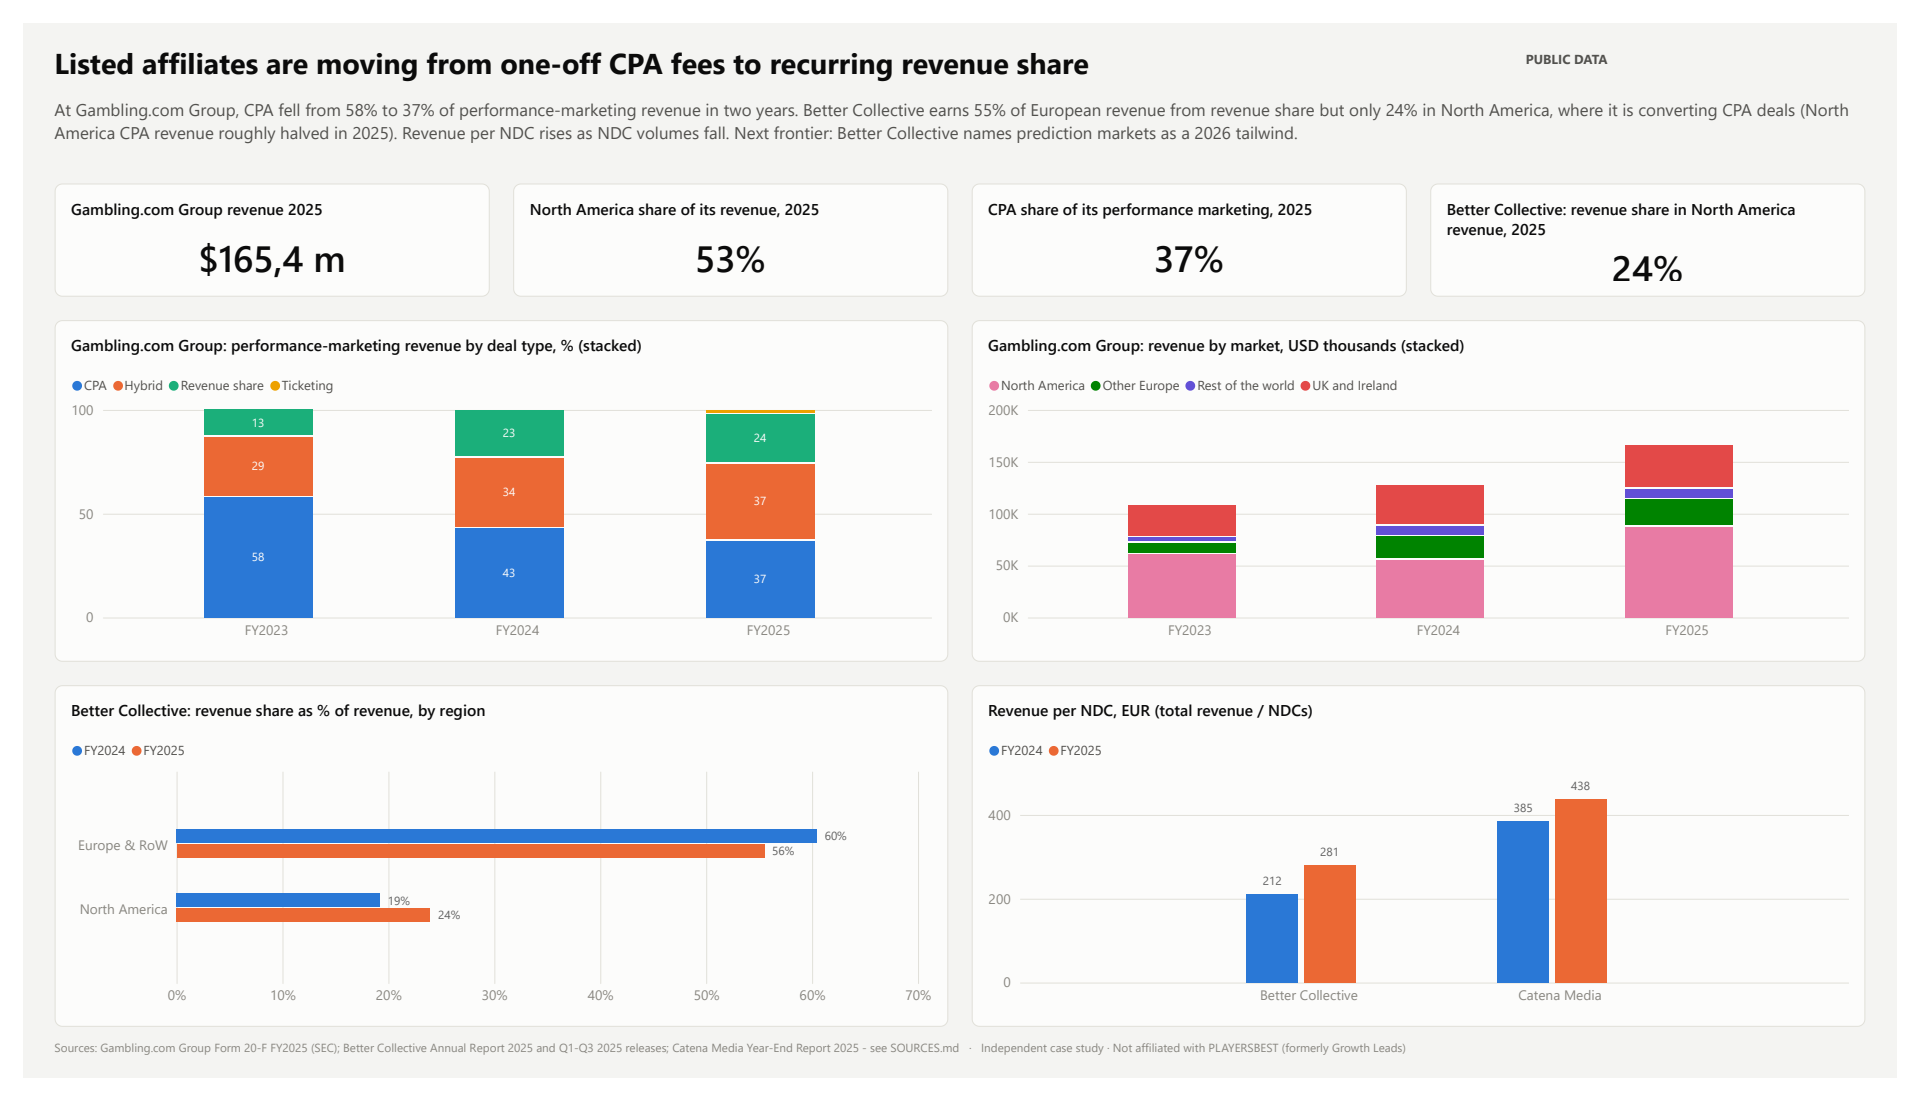

The dashboard page shown, as its layout file describes it:
{"tool":"powerbi","page":{"name":"1 · How affiliates make money","canvas":[1920,1080],"ordinal":1},"visuals":[{"type":"textbox","box":[32,20,1500,56],"z":1000},{"type":"textbox","box":[1540,28,348,40],"z":2000},{"type":"textbox","box":[32,76,1856,72],"z":3000},{"type":"card","title":"Gambling.com Group revenue 2025","fields":{"Values":["_Measures.GAMB Revenue 2025 ($m)"]},"box":[32,164,446,116],"z":4000},{"type":"card","title":"North America share of its revenue, 2025","fields":{"Values":["_Measures.GAMB North America Share 2025"]},"box":[502,164,446,116],"z":5000},{"type":"card","title":"CPA share of its performance marketing, 2025","fields":{"Values":["_Measures.GAMB CPA Share 2025"]},"box":[972,164,446,116],"z":6000},{"type":"card","title":"Better Collective: revenue share in North America revenue, 2025","fields":{"Values":["_Measures.BC NA Revenue Share 2025"]},"box":[1442,164,446,116],"z":7000},{"type":"columnChart","title":"Gambling.com Group: performance-marketing revenue by deal type, % (stacked)","fields":{"Category":["Public Figures.period"],"Series":["Public Figures.dimension"],"Y":["_Measures.Public Figure Value"]},"box":[32,304,916,350],"z":8000},{"type":"columnChart","title":"Gambling.com Group: revenue by market, USD thousands (stacked)","fields":{"Category":["Public Figures.period"],"Series":["Public Figures.dimension"],"Y":["_Measures.Public Figure Value"]},"box":[972,304,916,350],"z":9000},{"type":"clusteredBarChart","title":"Better Collective: revenue share as % of revenue, by region","fields":{"Category":["Public KPIs.region"],"Series":["Public KPIs.year"],"Y":["_Measures.Public KPI Pct"]},"box":[32,678,916,350],"z":10000},{"type":"clusteredColumnChart","title":"Revenue per NDC, EUR (total revenue / NDCs)","fields":{"Category":["Public KPIs.company"],"Series":["Public KPIs.year"],"Y":["_Measures.Public KPI Value"]},"box":[972,678,916,350],"z":11000},{"type":"textbox","box":[32,1040,1856,32],"z":12000}]}

Visuals, with their boxes in screenshot pixels (x1, y1, x2, y2), scaled from the page's 1920x1080 canvas onto the 1920x1101 screenshot:
textbox: BBox(32, 20, 1532, 77)
textbox: BBox(1540, 29, 1888, 69)
textbox: BBox(32, 77, 1888, 151)
"Gambling.com Group revenue 2025" card: BBox(32, 167, 478, 285)
"North America share of its revenue, 2025" card: BBox(502, 167, 948, 285)
"CPA share of its performance marketing, 2025" card: BBox(972, 167, 1418, 285)
"Better Collective: revenue share in North America revenue, 2025" card: BBox(1442, 167, 1888, 285)
"Gambling.com Group: performance-marketing revenue by deal type, % (stacked)" columnChart: BBox(32, 310, 948, 667)
"Gambling.com Group: revenue by market, USD thousands (stacked)" columnChart: BBox(972, 310, 1888, 667)
"Better Collective: revenue share as % of revenue, by region" clusteredBarChart: BBox(32, 691, 948, 1048)
"Revenue per NDC, EUR (total revenue / NDCs)" clusteredColumnChart: BBox(972, 691, 1888, 1048)
textbox: BBox(32, 1060, 1888, 1093)
